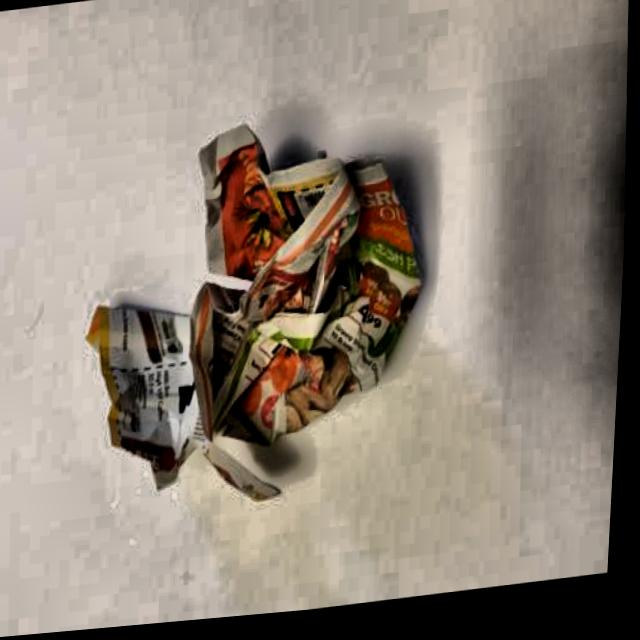Paper: (64, 91, 439, 542)
